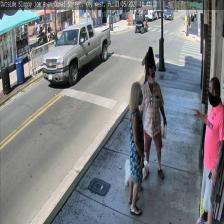person: (192, 76, 224, 223), (138, 62, 166, 180), (128, 81, 144, 214)
